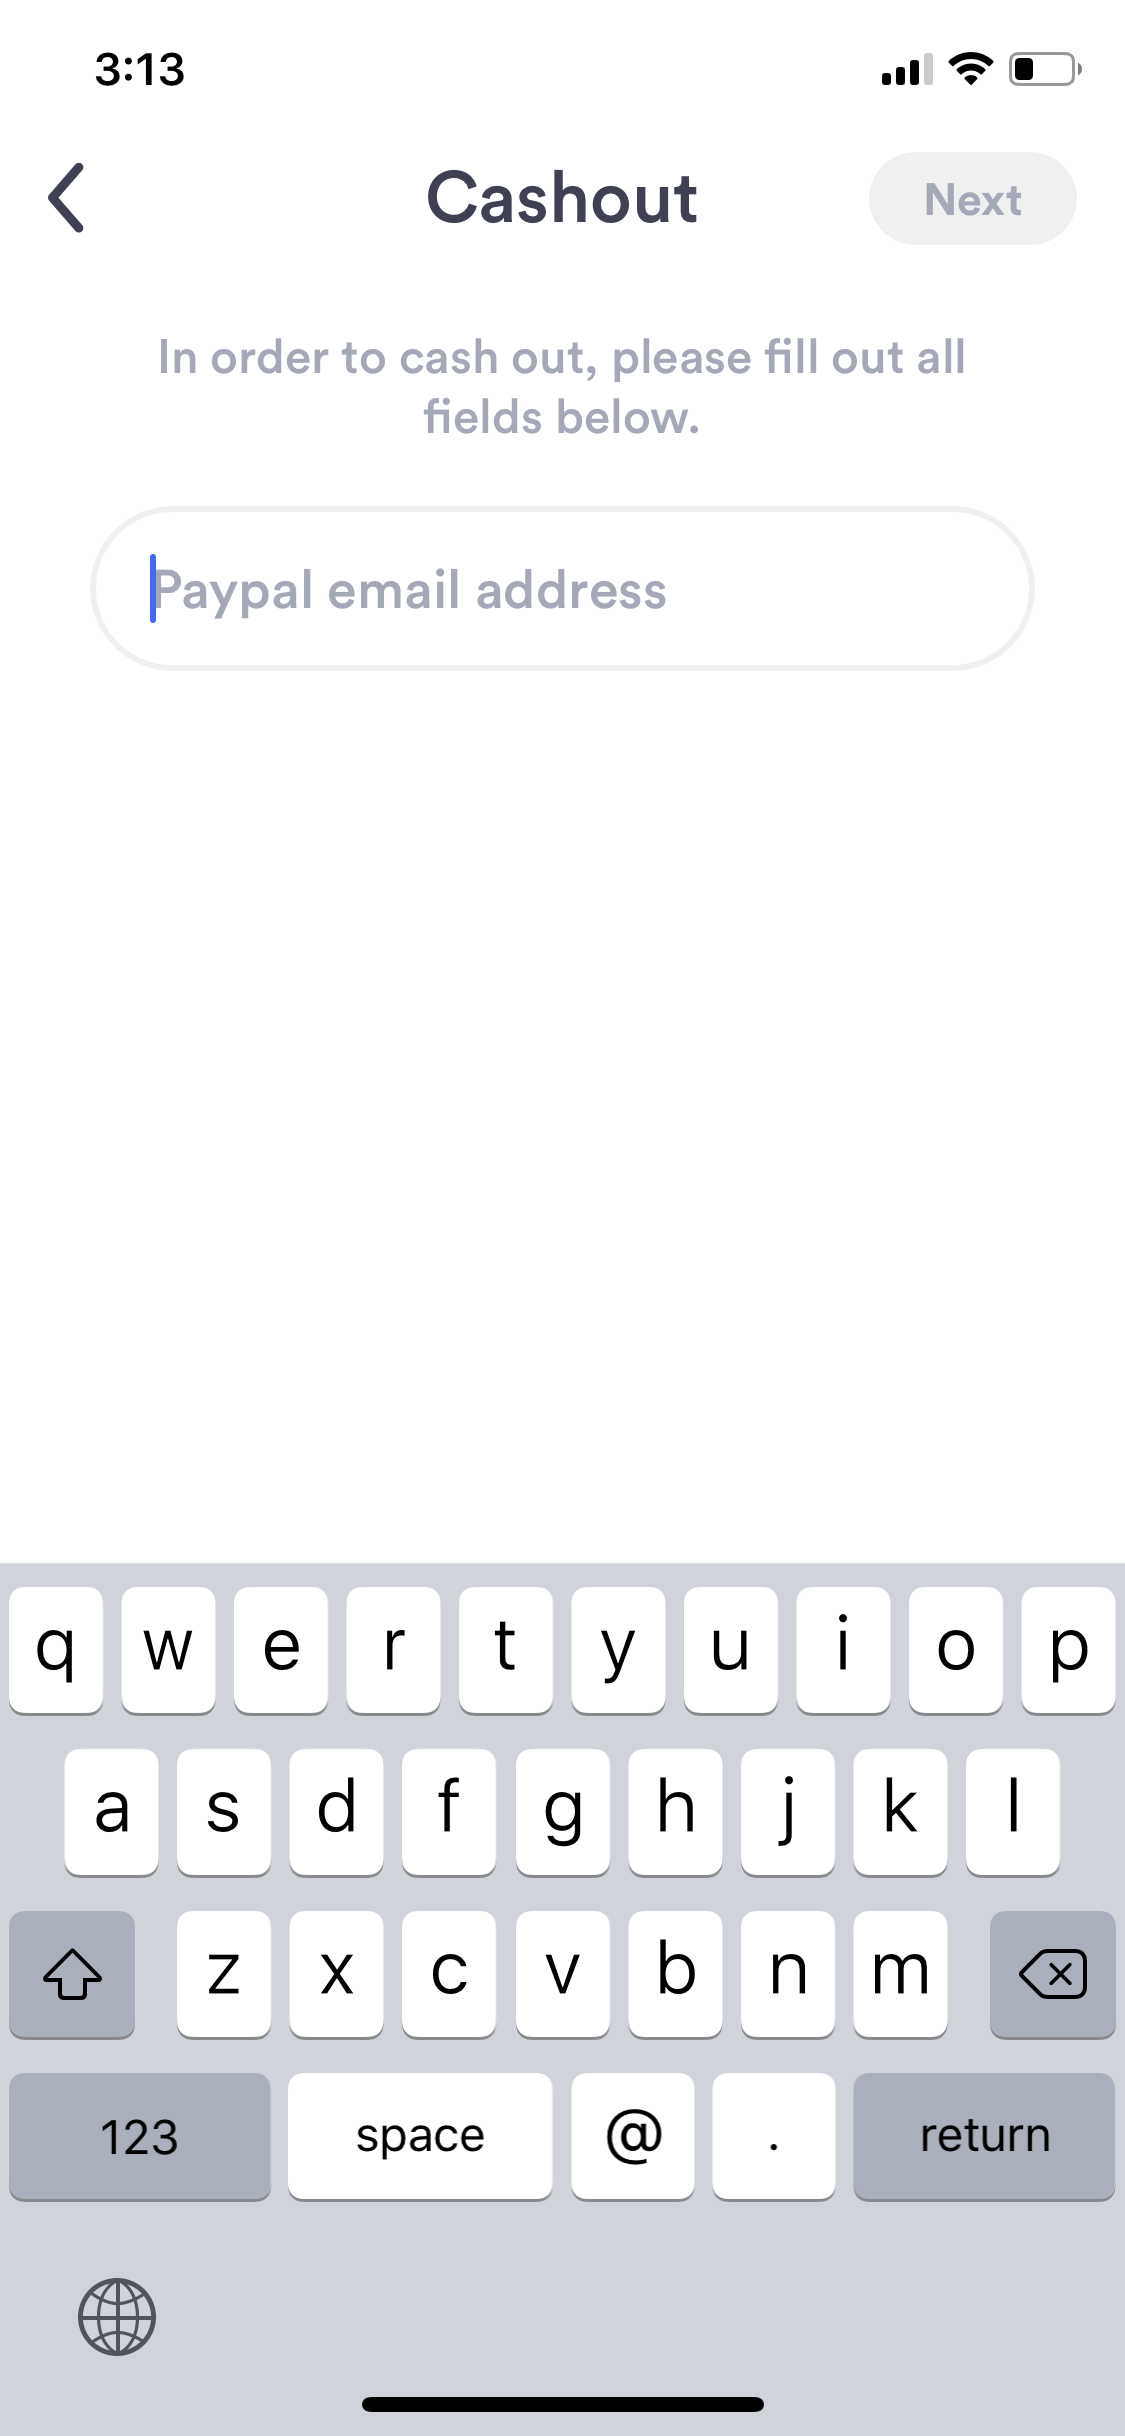Buttons: (848, 134, 1092, 263), (6, 134, 148, 259)
Text Fields: (85, 506, 1043, 676)
